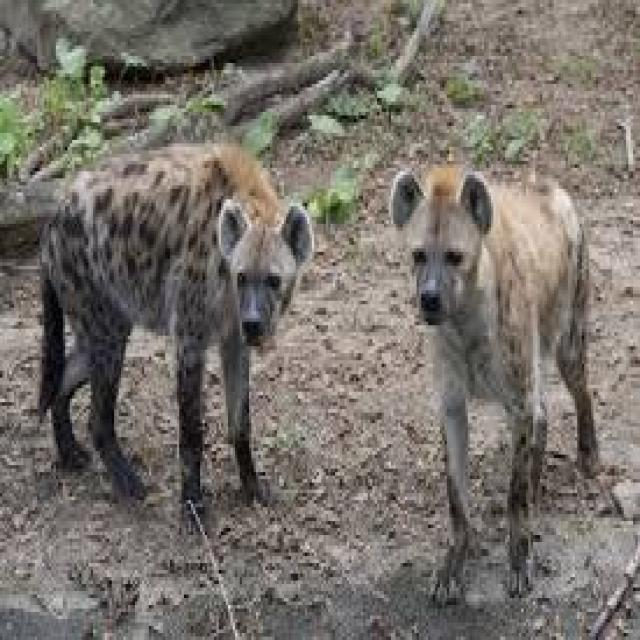Hyena: (31, 136, 315, 507), (389, 160, 608, 592)
